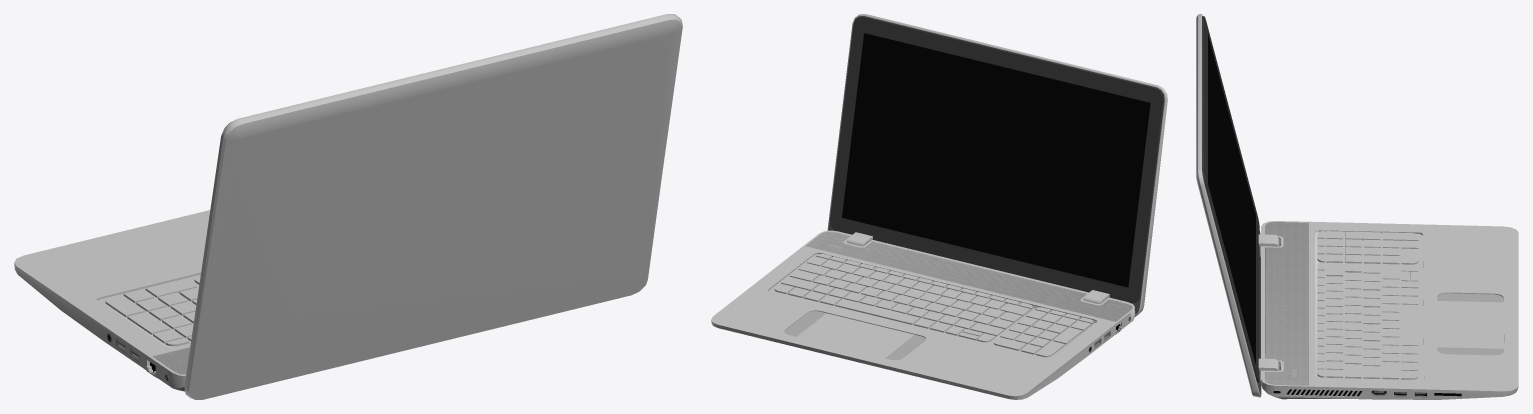
Rendered from laptop.glb.
3 renders of one model, left to right at view 1: azimuth 30°, elevation 25°; view 2: azimuth 150°, elevation 25°; view 3: azimuth 270°, elevation 25°, orthographic. The views are drawn at different scales.
Visible parts, largest first — view 1: lid_3, case_0, keyboard_4; view 2: lid_3, case_0, keyboard_4; view 3: case_0, keyboard_4, lid_3.
Part boxes in pixels (left/top/right/bottom): lid_3: left=184, top=14, right=682, bottom=399; case_0: left=14, top=210, right=210, bottom=391; keyboard_4: left=105, top=275, right=200, bottom=346; lid_3: left=827, top=14, right=1167, bottom=316; case_0: left=711, top=230, right=1135, bottom=399; keyboard_4: left=774, top=254, right=1093, bottom=357; case_0: left=1261, top=221, right=1518, bottom=399; keyboard_4: left=1317, top=231, right=1418, bottom=379; lid_3: left=1196, top=14, right=1279, bottom=397.
Size of the model in its own units: 0.84 by 0.5443 by 0.6936.
Materials: 9 (1 with a texture image).
